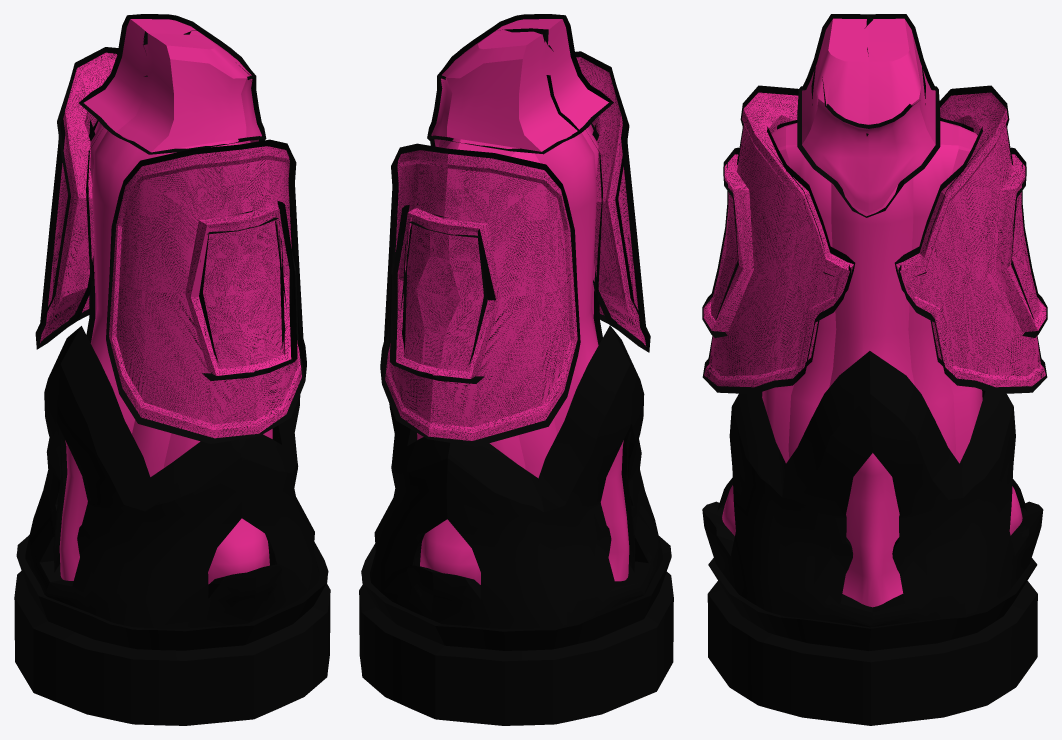
File: Pawn_Outlined01.fbx
The picture shows the model from 3 angles, left to right: view 1: azimuth 30°, elevation 25°; view 2: azimuth 150°, elevation 25°; view 3: azimuth 270°, elevation 25°; orthographic projection.
Visible parts, largest first — view 1: OulineBaseP, Side, OutlineSide, Helm, Body, OutlineHelm, OultineBodyP; view 2: OulineBaseP, Side, OutlineSide, Helm, Body, OutlineHelm, OultineBodyP; view 3: OulineBaseP, Side, Body, OutlineSide, Helm, OutlineHelm, OultineBodyP.
Part boxes in pixels (<box>): OulineBaseP: <box>14,326,330,725</box>; Side: <box>40,52,301,438</box>; OutlineSide: <box>35,47,306,443</box>; Helm: <box>84,19,261,152</box>; Body: <box>59,118,272,584</box>; OutlineHelm: <box>79,14,266,154</box>; OultineBodyP: <box>53,120,278,572</box>; OulineBaseP: <box>359,325,673,725</box>; Side: <box>385,57,646,440</box>; OutlineSide: <box>380,51,650,446</box>; Helm: <box>431,19,608,151</box>; Body: <box>417,123,629,584</box>; OutlineHelm: <box>427,14,613,154</box>; OultineBodyP: <box>411,123,635,572</box>; OulineBaseP: <box>702,351,1043,725</box>; Side: <box>703,92,1046,387</box>; Body: <box>722,121,1022,607</box>; OutlineSide: <box>702,85,1047,394</box>; Helm: <box>802,18,935,213</box>; OutlineHelm: <box>797,14,940,217</box>; OultineBodyP: <box>717,117,1027,511</box>.
Bounding box in the file's own units: 120 × 260 × 129.
